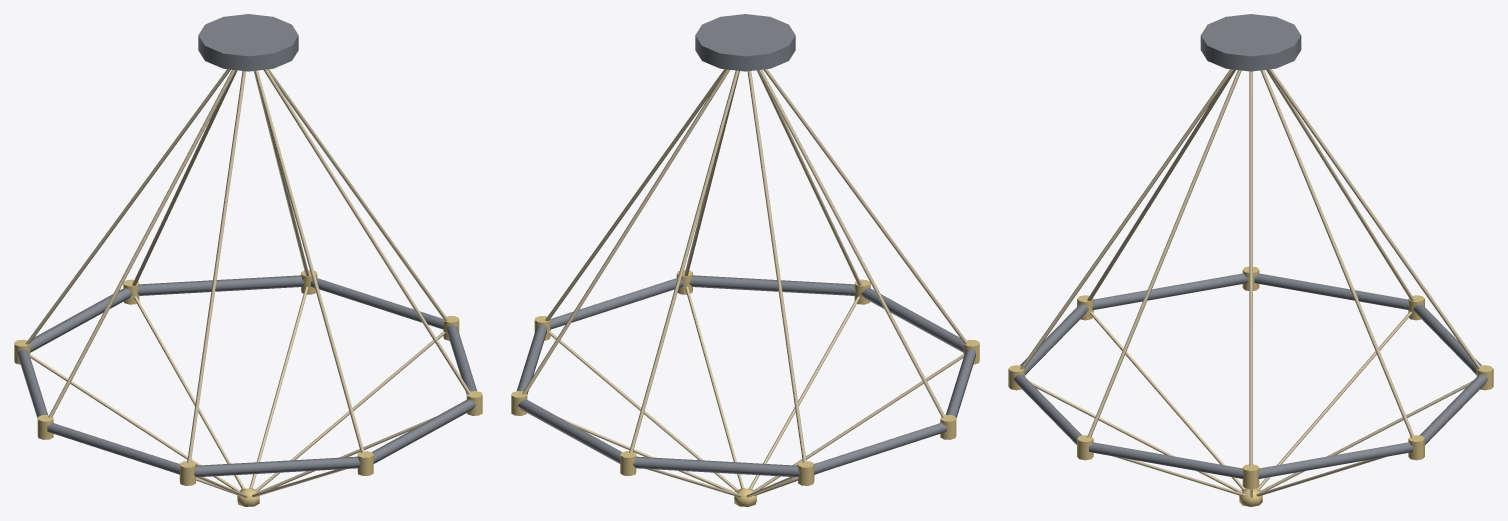
Rendered from balloon_hub.glb.
3 renders of one model, left to right at view 1: azimuth 30°, elevation 25°; view 2: azimuth 150°, elevation 25°; view 3: azimuth 270°, elevation 25°, orthographic.
Visible parts, largest first — view 1: balloon_hub; view 2: balloon_hub; view 3: balloon_hub.
Boxes of the visible parts, <box> form: balloon_hub: <box>14,14,482,506</box>; balloon_hub: <box>511,14,979,506</box>; balloon_hub: <box>1008,14,1493,506</box>.
Bounding box in the file's own units: 29 × 31.1 × 29.
